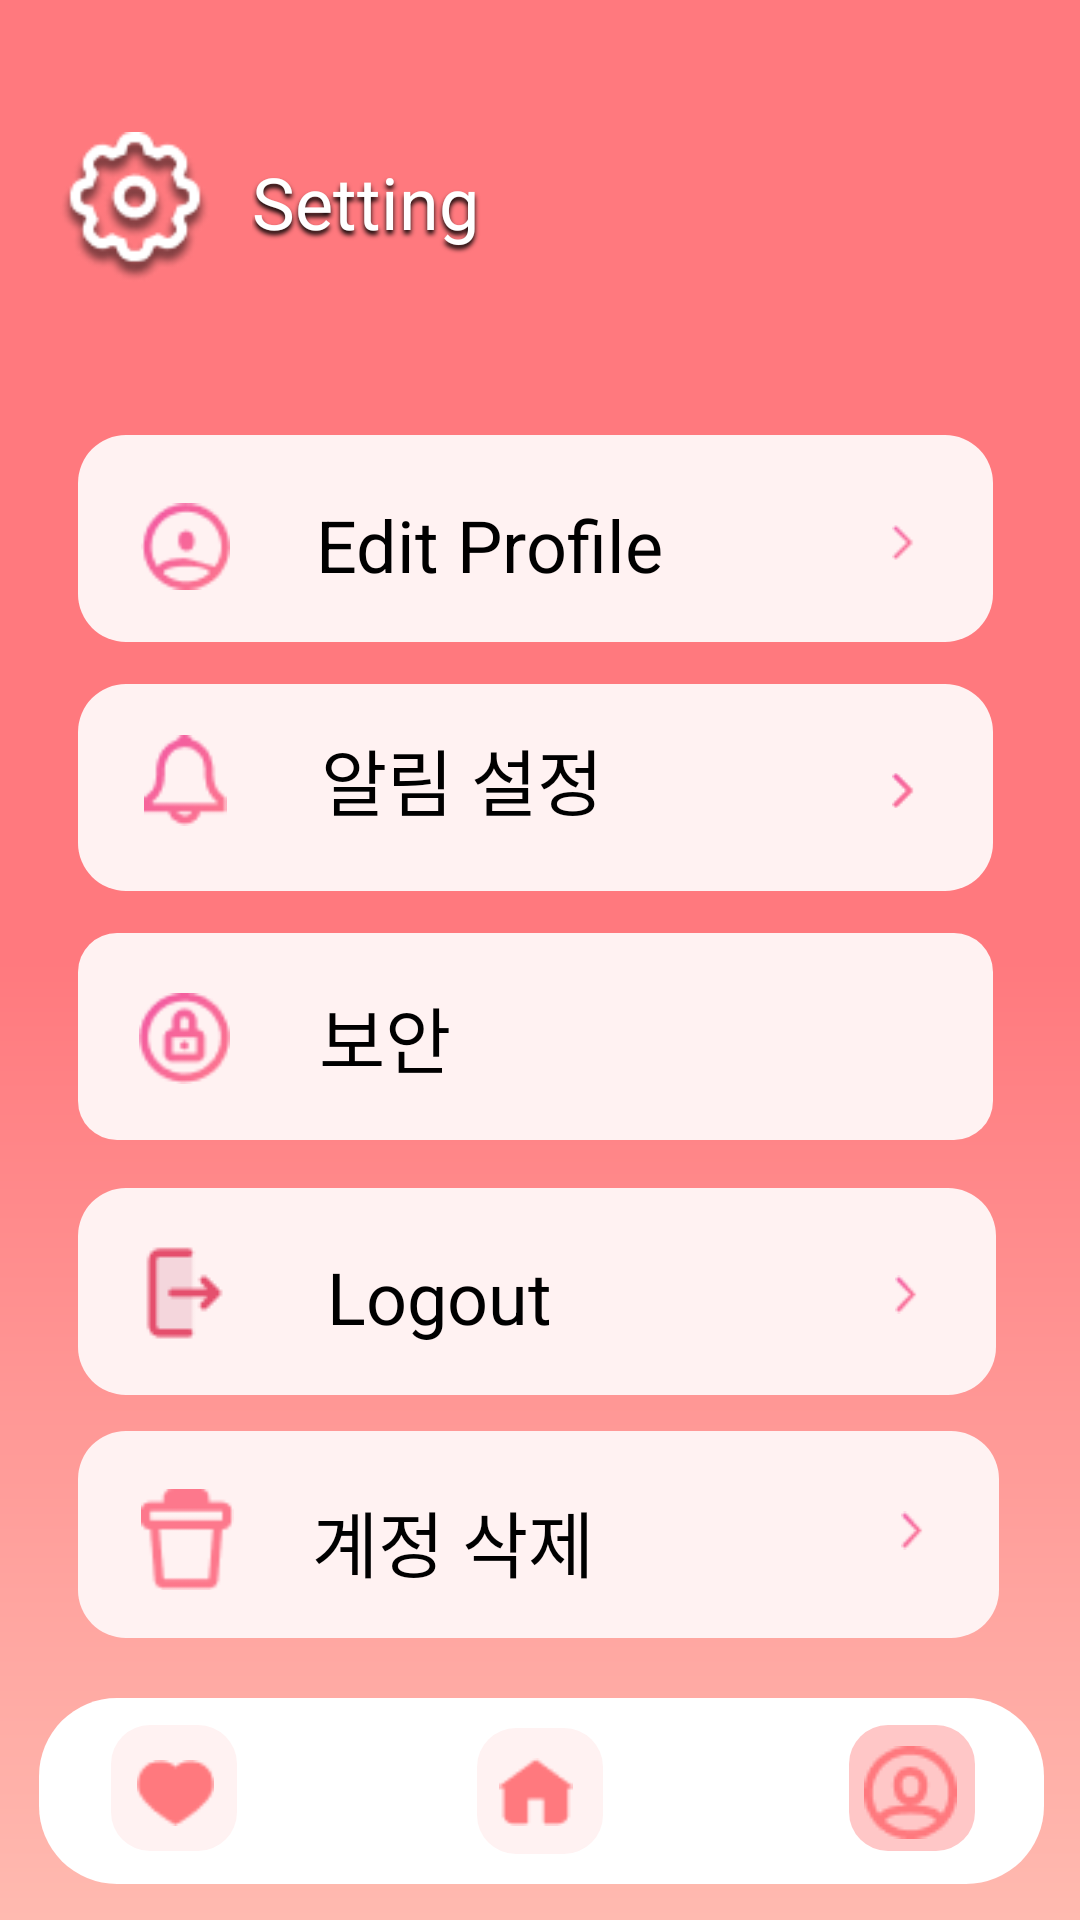

Where to tap for icons on this 1080px×1920px app screen, as point (x, y):
heart ek: point (175, 1793)
home ek: point (536, 1793)
